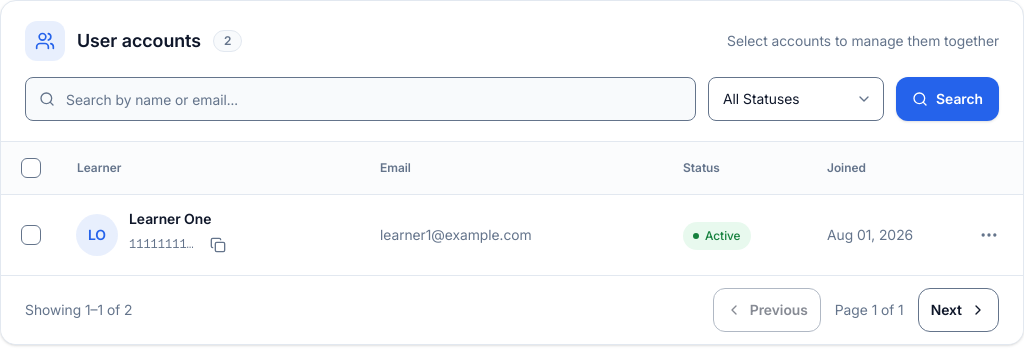
Test: Admin Shell & Operations › offers no soft delete on the active row menu without user.delete, and keeps suspend
The image size is (1024, 363).
Click the button named "Actions for Learner One".
click(989, 235)  # box [967,213,1011,257]
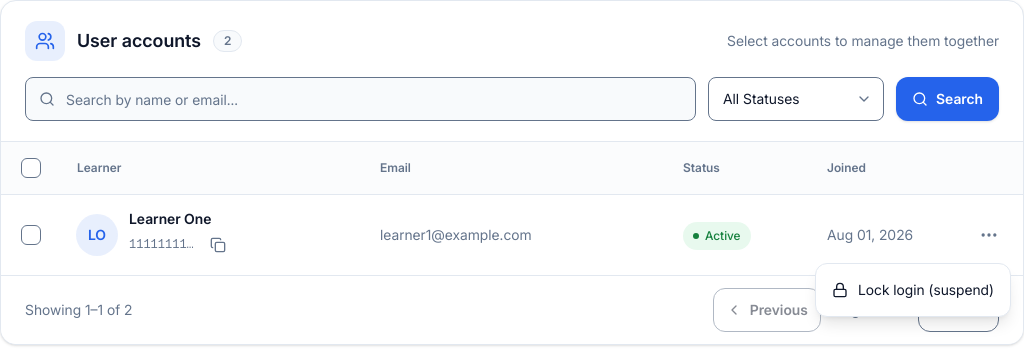
Now the menu item "Lock login (suspend)" is shown, box [832,281,994,298]
